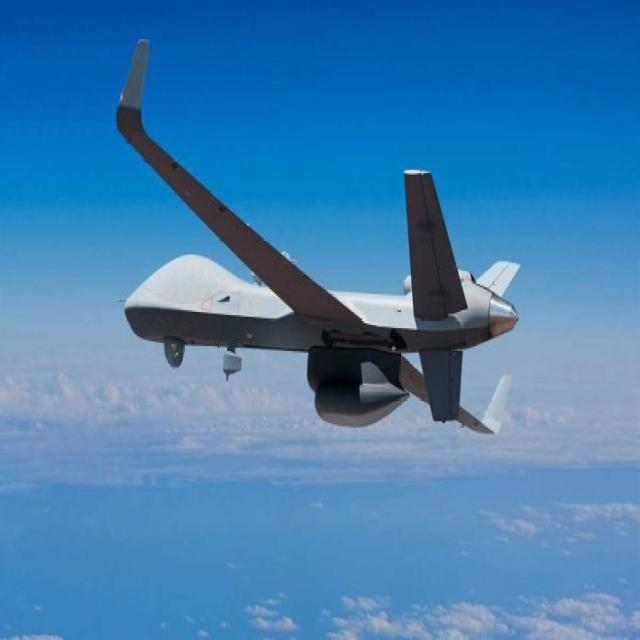iha: (116, 38, 522, 441)
